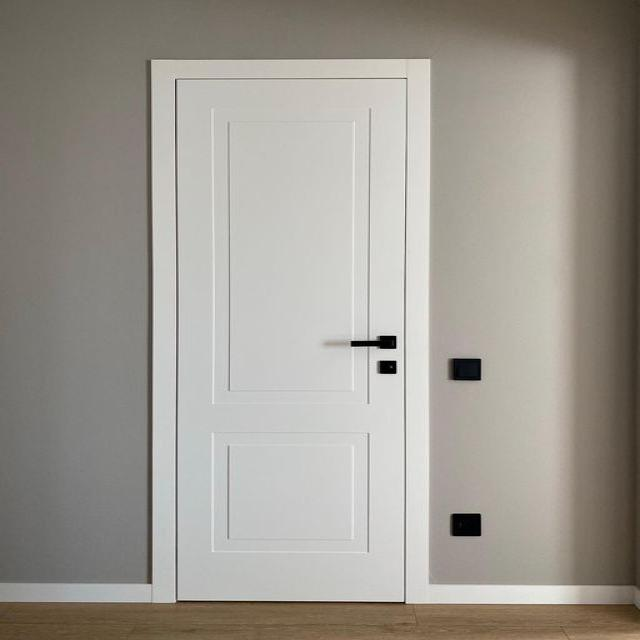door: (160, 60, 412, 603)
